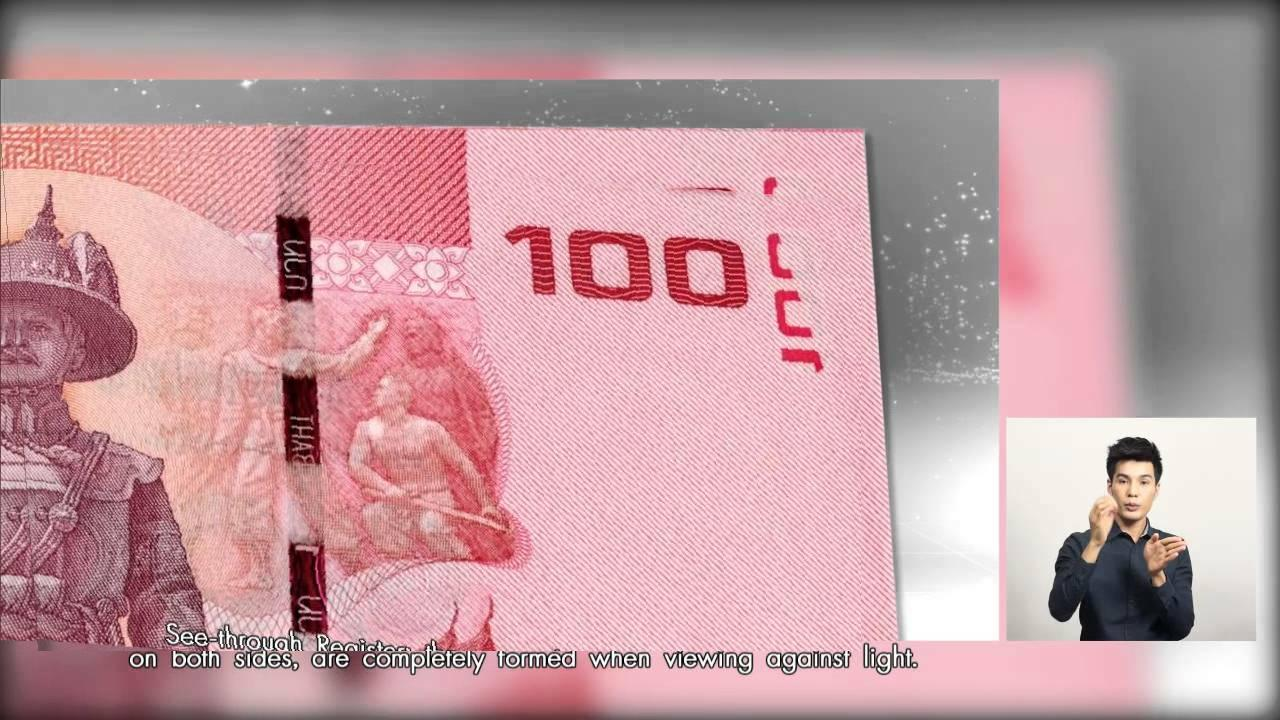100BahtTai: (0, 138, 861, 652)
